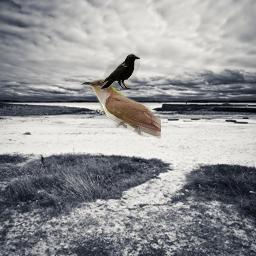Crow: (99, 53, 140, 91)
Cuckoo: (79, 79, 161, 139)
